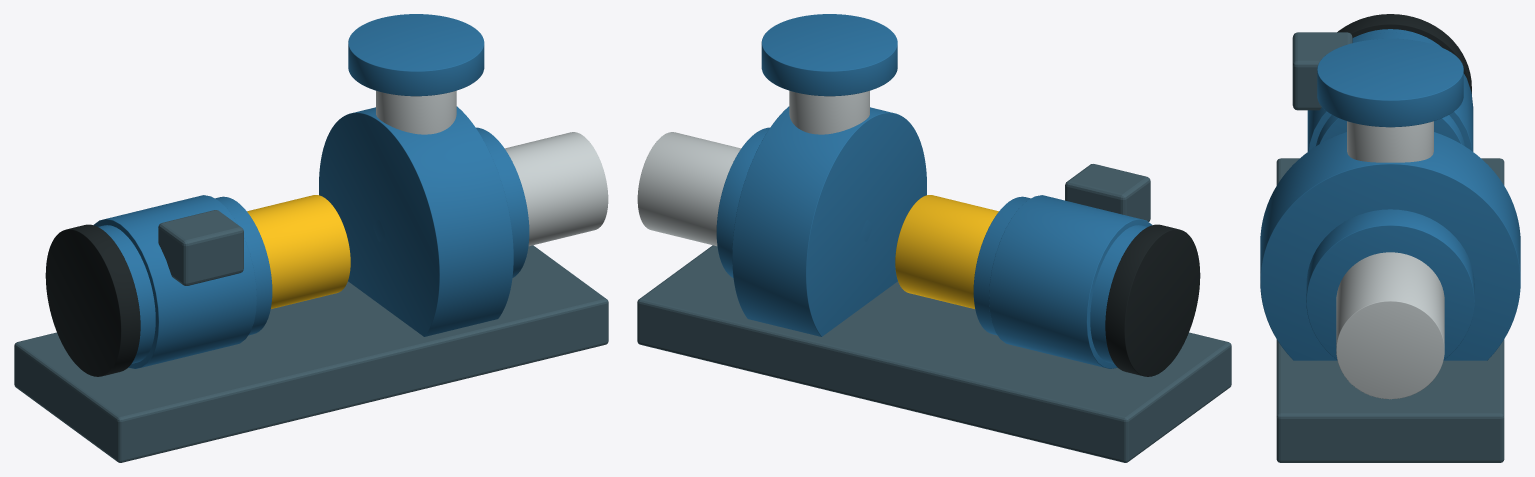
Rendered from end_suction_centrifugal_pump.glb.
The picture shows the model from 3 angles, left to right: view 1: azimuth 30°, elevation 25°; view 2: azimuth 150°, elevation 25°; view 3: azimuth 270°, elevation 25°; orthographic projection. The views are drawn at different scales.
Parts seen in each view (by area): view 1: BASE, VOLUTE, MOTOR_FIN_0, MOTOR_FAN, DISCHARGE_FLANGE, SUCTION_NOZZLE, COUPLING_GUARD, MOTOR_TERMINAL, MOTOR, DISCHARGE_NOZZLE, SUCTION_FLANGE; view 2: BASE, VOLUTE, MOTOR_FIN_0, MOTOR_FAN, DISCHARGE_FLANGE, SUCTION_NOZZLE, COUPLING_GUARD, MOTOR, MOTOR_TERMINAL, DISCHARGE_NOZZLE, SUCTION_FLANGE; view 3: VOLUTE, BASE, SUCTION_NOZZLE, SUCTION_FLANGE, DISCHARGE_FLANGE, DISCHARGE_NOZZLE, MOTOR_TERMINAL, MOTOR_FIN_0, MOTOR_FAN, MOTOR.
Part boxes in pixels (<box>): BASE: <box>14,245,608,462</box>; VOLUTE: <box>319,106,513,336</box>; MOTOR_FIN_0: <box>93,195,256,368</box>; MOTOR_FAN: <box>45,224,140,376</box>; DISCHARGE_FLANGE: <box>348,14,484,96</box>; SUCTION_NOZZLE: <box>505,132,608,246</box>; COUPLING_GUARD: <box>247,195,350,308</box>; MOTOR_TERMINAL: <box>158,210,243,285</box>; MOTOR: <box>98,196,272,363</box>; DISCHARGE_NOZZLE: <box>376,90,456,134</box>; SUCTION_FLANGE: <box>476,127,529,277</box>; BASE: <box>637,245,1231,462</box>; VOLUTE: <box>732,106,926,336</box>; MOTOR_FIN_0: <box>989,195,1152,368</box>; MOTOR_FAN: <box>1105,224,1200,376</box>; DISCHARGE_FLANGE: <box>761,14,897,96</box>; SUCTION_NOZZLE: <box>637,132,740,246</box>; COUPLING_GUARD: <box>895,195,998,308</box>; MOTOR: <box>973,196,1147,363</box>; MOTOR_TERMINAL: <box>1065,164,1150,221</box>; DISCHARGE_NOZZLE: <box>789,90,869,134</box>; SUCTION_FLANGE: <box>716,127,769,277</box>; VOLUTE: <box>1260,132,1520,360</box>; BASE: <box>1276,158,1504,462</box>; SUCTION_NOZZLE: <box>1336,252,1444,399</box>; SUCTION_FLANGE: <box>1306,209,1474,359</box>; DISCHARGE_FLANGE: <box>1317,38,1463,127</box>; DISCHARGE_NOZZLE: <box>1347,121,1433,162</box>; MOTOR_TERMINAL: <box>1292,32,1352,110</box>; MOTOR_FIN_0: <box>1307,32,1473,151</box>; MOTOR_FAN: <box>1337,14,1471,93</box>; MOTOR: <box>1315,29,1465,146</box>.
Bounding box in the file's own units: 2.37 × 1.3 × 0.96.
